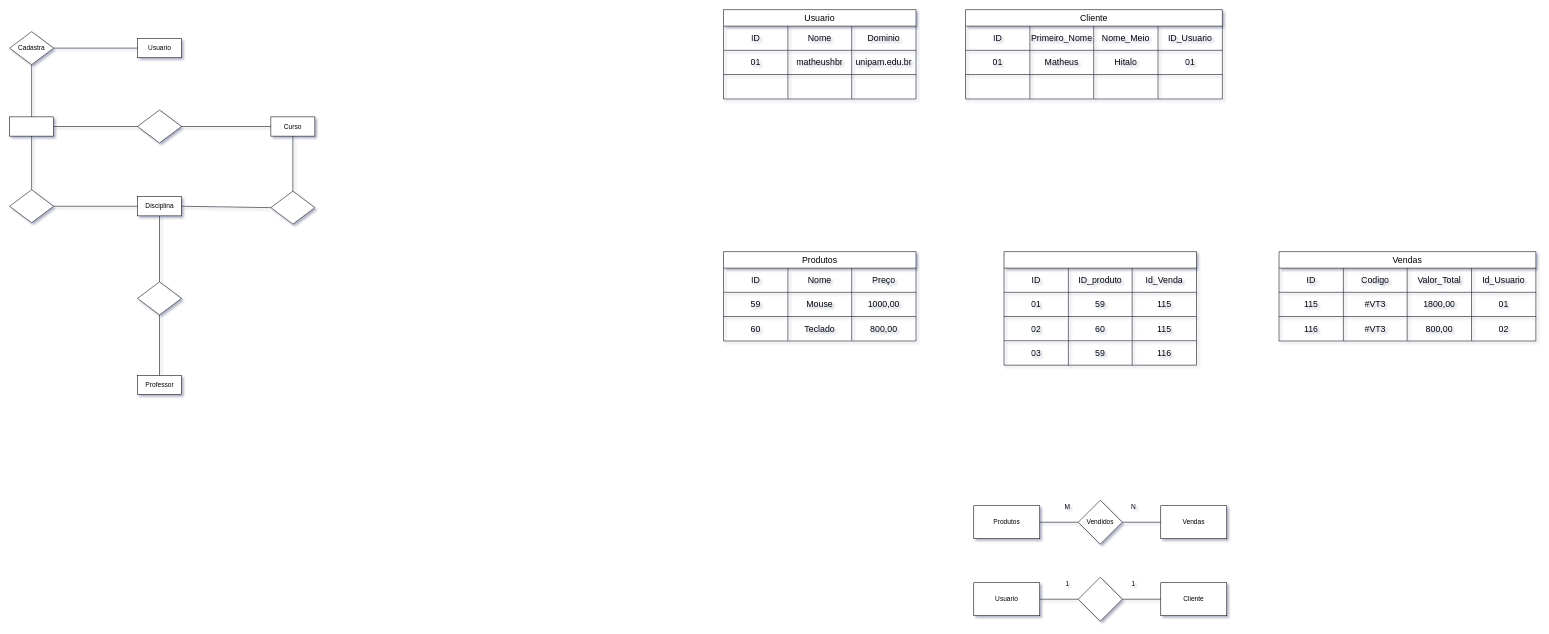
Some shapes in this 1549 by 634 pixel diagram are drawn without their labels. Here are the shapes that lost their labels. From the top down, the box of each, then its label:
(9, 116, 54, 136): Aluno
(137, 109, 182, 143): Matricular
(9, 189, 54, 223): Cursar
(270, 191, 315, 224): Possui
(137, 281, 182, 315): Ministra
(1003, 251, 1197, 365): Produtos_Venda
(1078, 577, 1122, 621): Cadastrar
